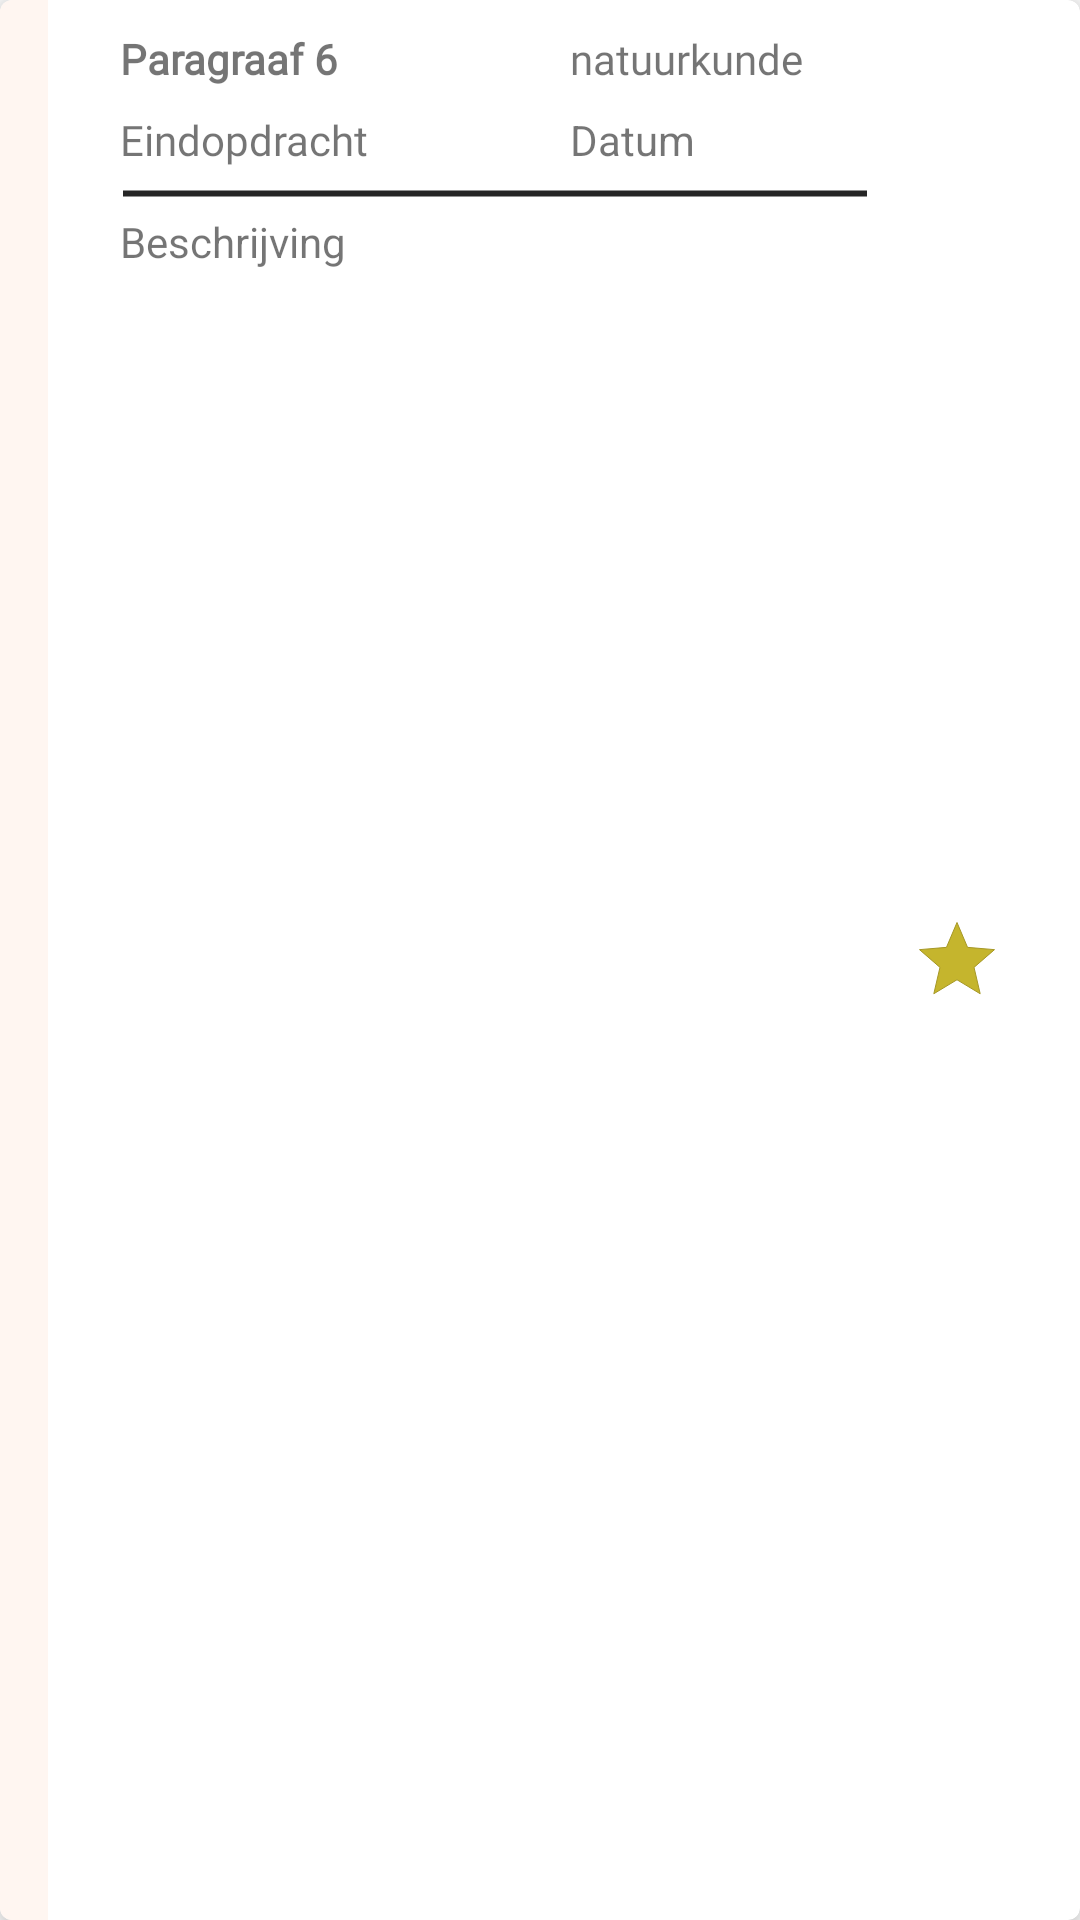

Where icons sit on this 1080 × 1920 app screen, as (x1, y1, x2, y2):
star: (919, 922, 995, 994)
